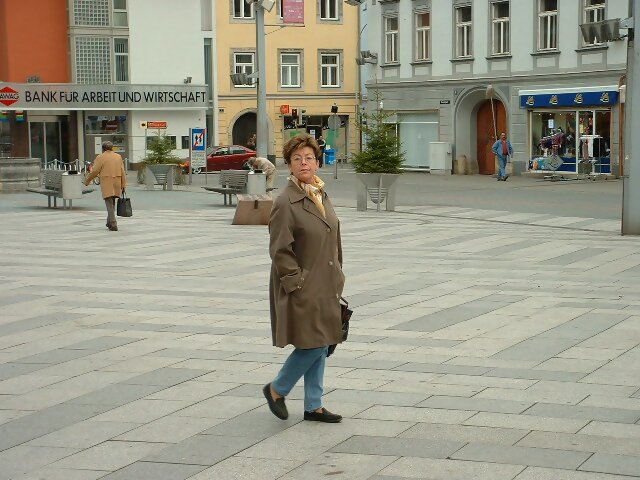person: (261, 134, 347, 428), (82, 137, 135, 234), (486, 127, 517, 182)
